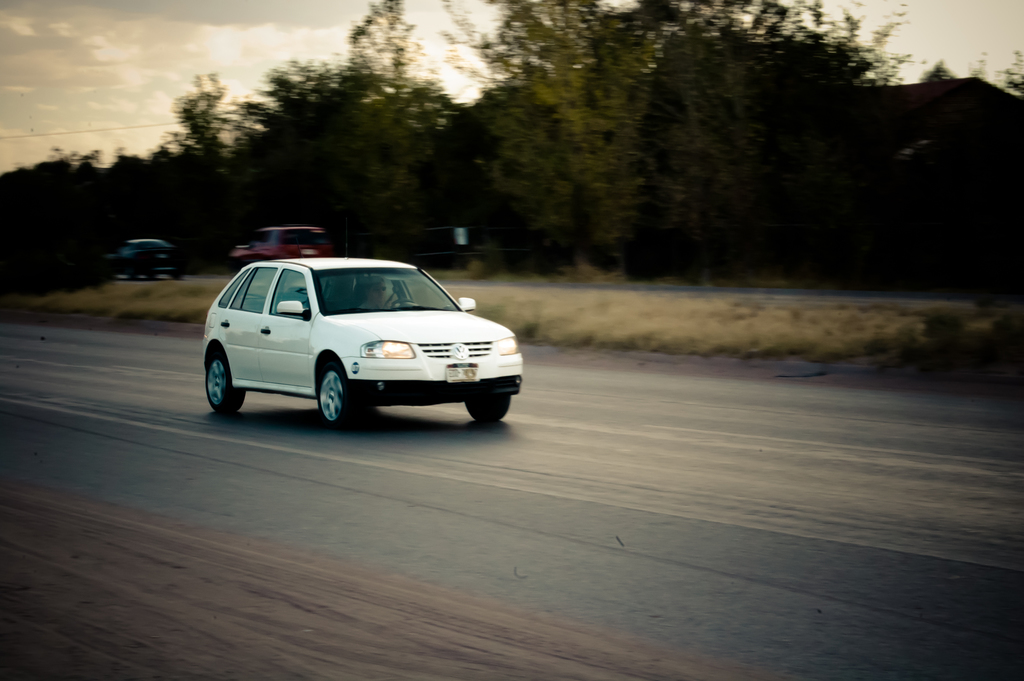Car: (205, 252, 526, 428), (227, 221, 330, 272), (114, 237, 180, 279)
